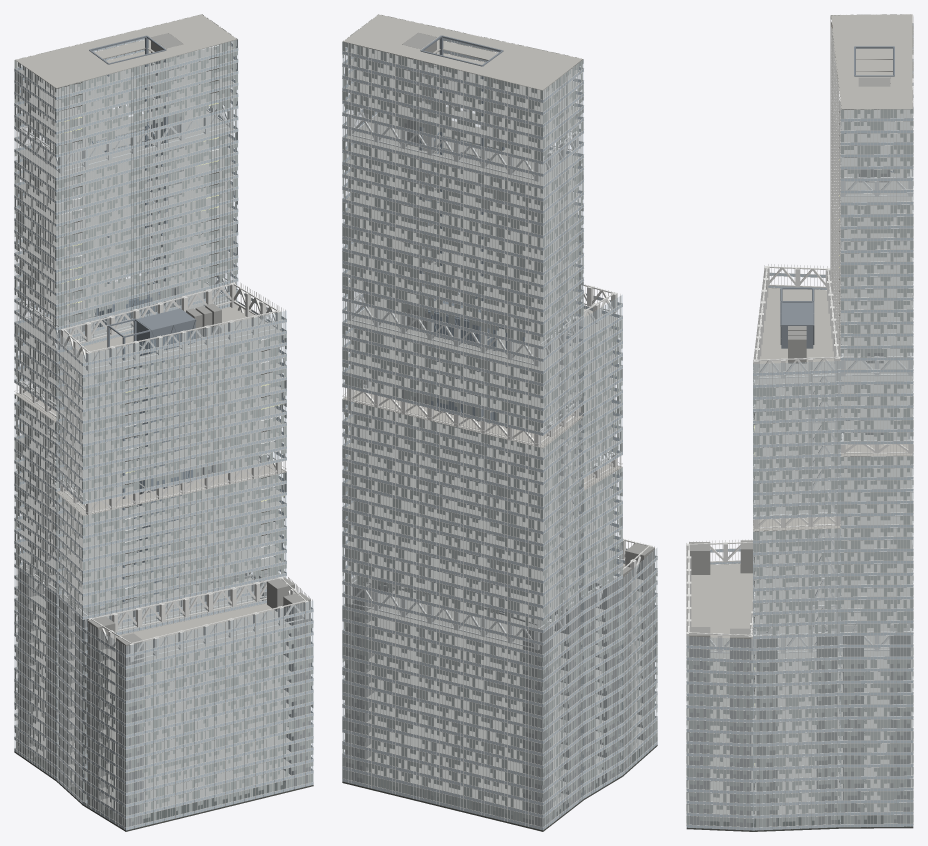
Rendered from abeno_harukas.glb.
3 renders of one model, left to right at view 1: azimuth 30°, elevation 25°; view 2: azimuth 150°, elevation 25°; view 3: azimuth 270°, elevation 25°, orthographic. The views are drawn at different scales.
Visible parts, largest first — view 1: Web_Harukas_Body_Glass_Web, Web_Harukas_Facade_Frame, Harukas_Curtains, Web_Harukas_Spandrel_Blue, Web_Harukas_Core_Concrete, Web_Harukas_Truss_White, High_Floor_60, Web_Harukas_Core_Steel, Low_Floor_14, Middle_Floor_37, High_Floor_52, Middle_Floor_25 (+52 smaller); view 2: Web_Harukas_Body_Glass_Web, Web_Harukas_Facade_Frame, Harukas_Curtains, Web_Harukas_Spandrel_Blue, Web_Harukas_Core_Concrete, Web_Harukas_Truss_White, High_Floor_60, High_Floor_52, Web_Harukas_Core_Steel, High_Floor_14, High_Floor_37, High_Floor_31 (+49 smaller); view 3: Web_Harukas_Body_Glass_Web, Web_Harukas_Facade_Frame, Harukas_Curtains, Web_Harukas_Spandrel_Blue, Web_Harukas_Core_Concrete, Web_Harukas_Truss_White, High_Floor_60, Low_Floor_14, Middle_Floor_37, Web_Harukas_Core_Steel, High_Floor_37, High_Floor_52 (+18 smaller).
Part boxes in pixels (x1=…): Web_Harukas_Body_Glass_Web: x1=14, y1=40, x2=313, y2=826; Web_Harukas_Facade_Frame: x1=14, y1=15, x2=313, y2=829; Harukas_Curtains: x1=14, y1=14, x2=313, y2=827; Web_Harukas_Spandrel_Blue: x1=14, y1=38, x2=313, y2=830; Web_Harukas_Core_Concrete: x1=18, y1=33, x2=310, y2=827; Web_Harukas_Truss_White: x1=19, y1=100, x2=308, y2=662; High_Floor_60: x1=15, y1=14, x2=237, y2=88; Web_Harukas_Core_Steel: x1=69, y1=35, x2=196, y2=601; Low_Floor_14: x1=101, y1=603, x2=306, y2=665; Middle_Floor_37: x1=59, y1=305, x2=281, y2=377; High_Floor_52: x1=18, y1=109, x2=234, y2=177; Middle_Floor_25: x1=57, y1=457, x2=285, y2=515; Web_Harukas_Body_Glass_Web: x1=342, y1=42, x2=657, y2=826; Web_Harukas_Facade_Frame: x1=342, y1=15, x2=657, y2=829; Harukas_Curtains: x1=342, y1=14, x2=657, y2=825; Web_Harukas_Spandrel_Blue: x1=342, y1=38, x2=657, y2=830; Web_Harukas_Core_Concrete: x1=345, y1=32, x2=654, y2=826; Web_Harukas_Truss_White: x1=347, y1=104, x2=652, y2=650; High_Floor_60: x1=343, y1=14, x2=582, y2=90; High_Floor_52: x1=346, y1=114, x2=579, y2=188; Web_Harukas_Core_Steel: x1=419, y1=35, x2=524, y2=612; High_Floor_14: x1=353, y1=587, x2=568, y2=656; High_Floor_37: x1=346, y1=298, x2=579, y2=371; High_Floor_31: x1=343, y1=382, x2=582, y2=448; Web_Harukas_Body_Glass_Web: x1=687, y1=109, x2=912, y2=826; Web_Harukas_Facade_Frame: x1=686, y1=14, x2=913, y2=830; Harukas_Curtains: x1=686, y1=14, x2=913, y2=827; Web_Harukas_Spandrel_Blue: x1=686, y1=23, x2=913, y2=830; Web_Harukas_Core_Concrete: x1=689, y1=77, x2=910, y2=827; Web_Harukas_Truss_White: x1=686, y1=88, x2=912, y2=654; High_Floor_60: x1=831, y1=14, x2=912, y2=109; Low_Floor_14: x1=687, y1=563, x2=752, y2=662; Middle_Floor_37: x1=754, y1=288, x2=839, y2=387; Web_Harukas_Core_Steel: x1=780, y1=46, x2=894, y2=348; High_Floor_37: x1=841, y1=349, x2=912, y2=385; High_Floor_52: x1=841, y1=169, x2=912, y2=205.
Bounding box in the file's own units: 90.19 × 301 × 86.14.
